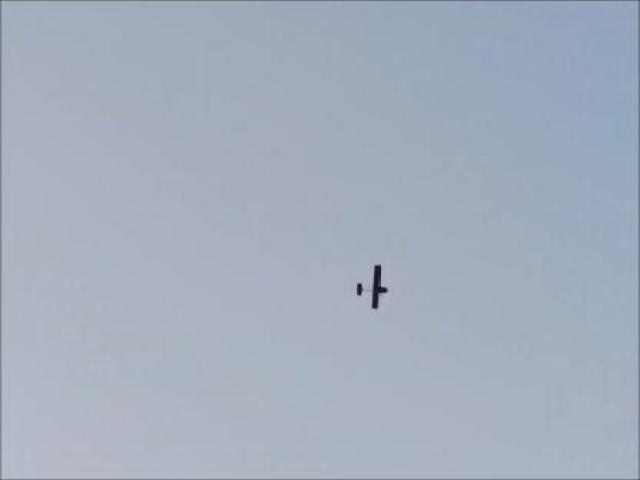uav: (348, 257, 397, 314)
